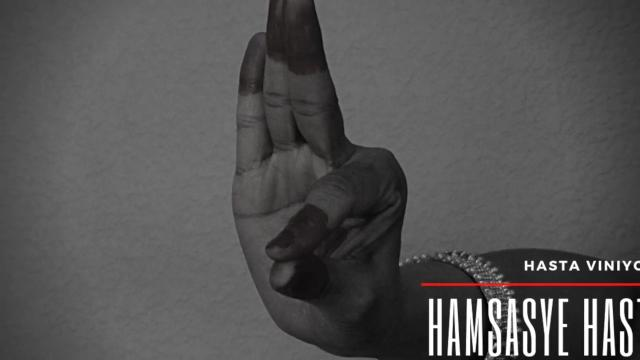hansaasya: (198, 0, 424, 348)
